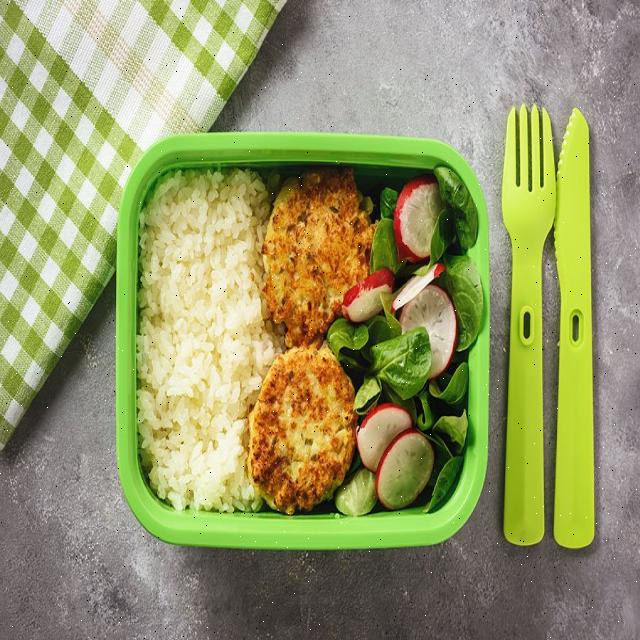Green veg: (328, 166, 484, 512), (371, 189, 405, 277), (335, 454, 377, 515)
Non green veg: (342, 263, 457, 379), (357, 403, 433, 509), (393, 176, 444, 262)
Potato: (249, 170, 375, 513)
Rice: (136, 171, 284, 510)
